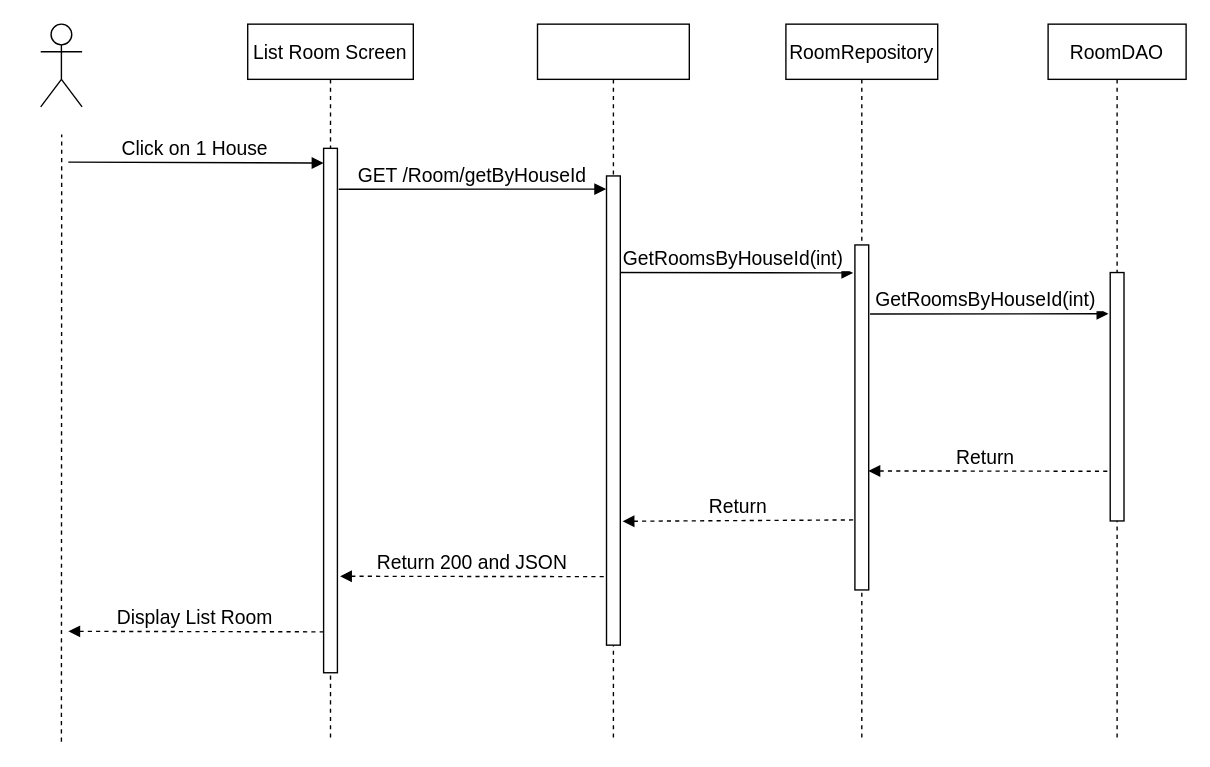
This 1210x767 diagram has some shape labels left out. The box of each missing label's shape, as (x1, y1, x2, y2) in pixels:
Landlord: (39, 23, 82, 107)
RoomController: (536, 23, 689, 742)
